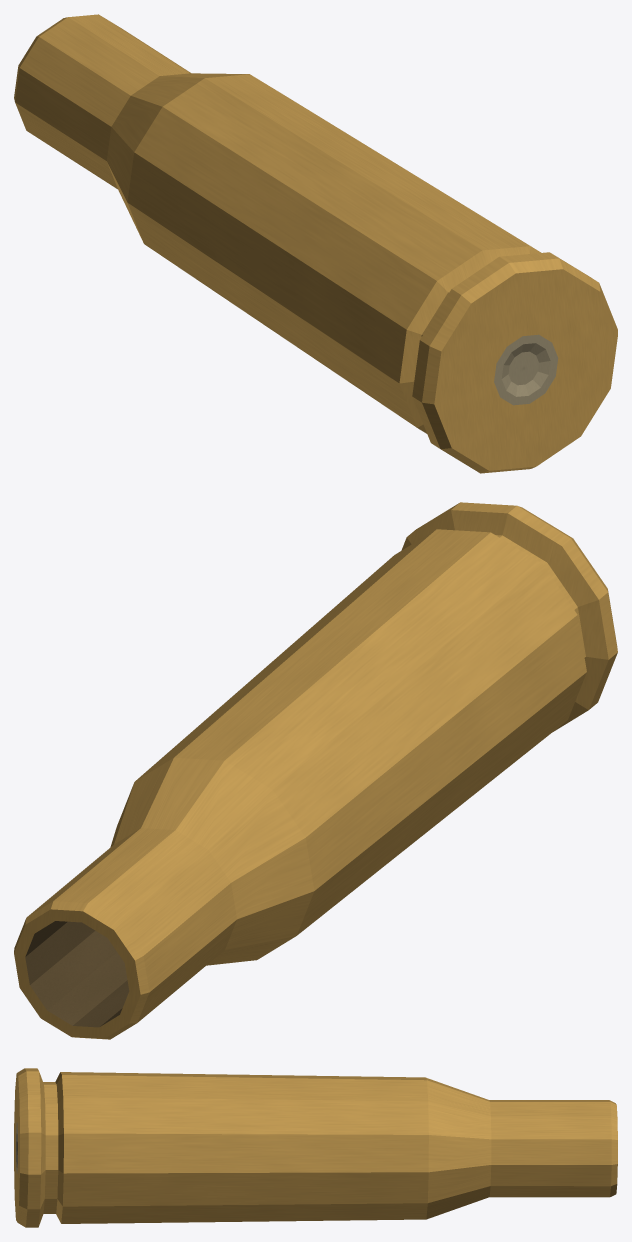
Rendered from 12_rifle_casing.glb.
3 renders of one model, top to bottom at view 1: azimuth 30°, elevation 25°; view 2: azimuth 150°, elevation 25°; view 3: azimuth 270°, elevation 25°, orthographic. The views are drawn at different scales.
Parts seen in each view (by area): view 1: rifle_casing; view 2: rifle_casing; view 3: rifle_casing.
Part boxes in pixels (x1,y1,x2,y2): rifle_casing: (14, 14, 617, 473); rifle_casing: (14, 502, 617, 1039); rifle_casing: (14, 1068, 617, 1227).
Bounding box in the file's own units: 0.0132 × 0.0128 × 0.0476.
Materials: 3 (3 with a texture image).
